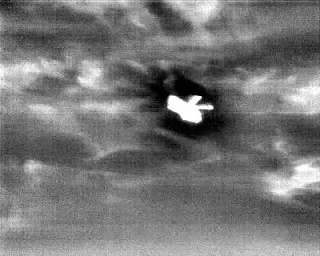HELICOPTER: (166, 90, 217, 129)
